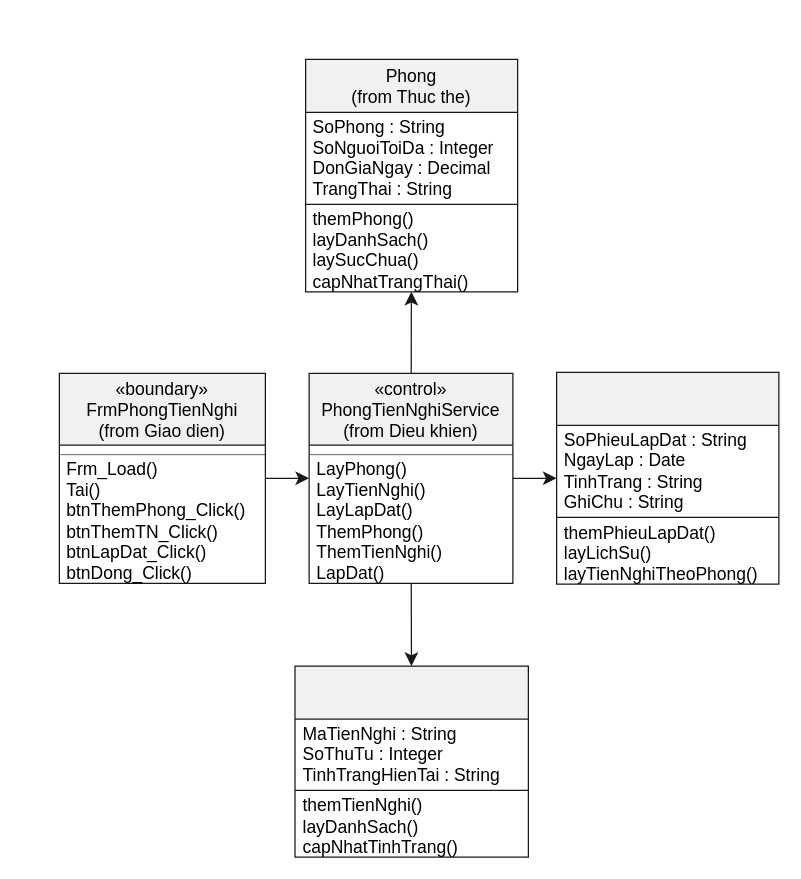
This 801x879 diagram has some shape labels left out. The shapes that lost their labels are listed below. From the top down, each one's box as (x1, y1, x2, y2) in pixels, then its label:
(555, 371, 779, 584): PhieuLapDat (from Thuc the)
(294, 665, 528, 857): TienNghi (from Thuc the)
